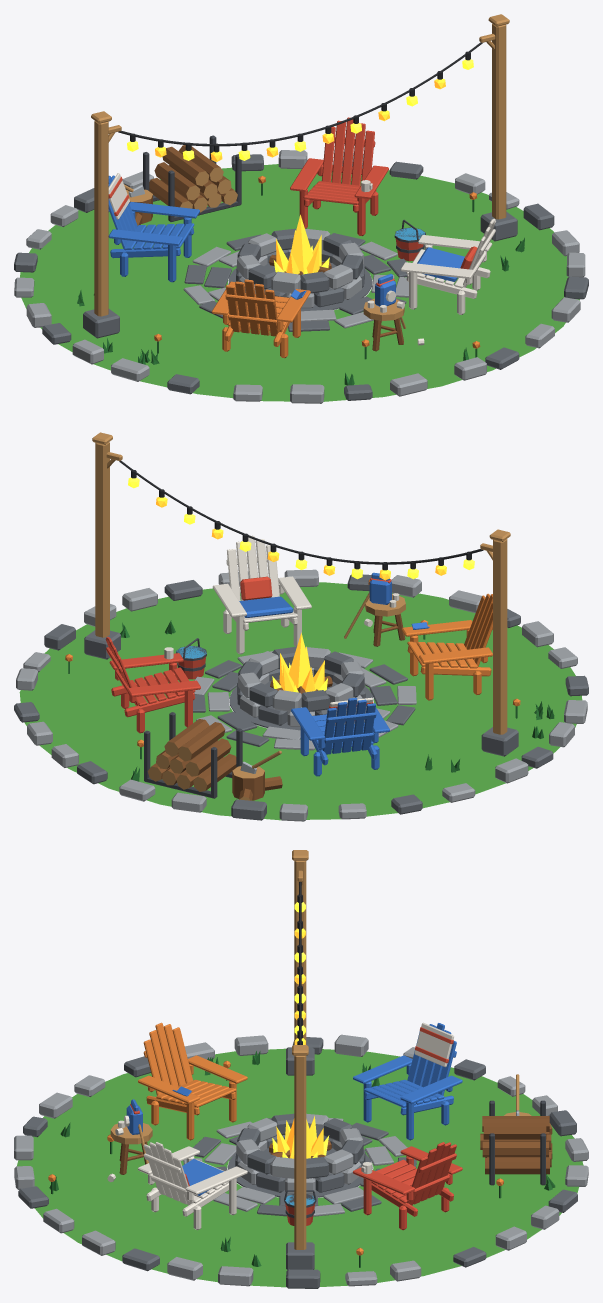
Rendered from backyard-fire-pit-set.glb.
3 views of the same model, one above another, from view 1: azimuth 30°, elevation 25°; view 2: azimuth 150°, elevation 25°; view 3: azimuth 270°, elevation 25° (orthographic).
Parts seen in each view (by area): view 1: Yard_Ground, Light_Posts, FirePit_Stones, Chair_Red_Body, Firewood_Logs, Chair_Blue_Body, Chair_Cream_Body, Chair_Orange_Body, Bulbs, Flames, Stool, Light_Wire (+2 smaller); view 2: Yard_Ground, Light_Posts, FirePit_Stones, Firewood_Logs, Chair_Cream_Body, Chair_Orange_Body, Chair_Blue_Body, Chair_Red_Body, Bulbs, Flames, Stool, Light_Wire (+2 smaller); view 3: Yard_Ground, FirePit_Stones, Chair_Blue_Body, Chair_Orange_Body, Light_Posts, Chair_Red_Body, Chair_Cream_Body, Firewood_Logs, Flames, Stool, Bulbs, Bucket.
Boxes of the visible parts, <box> form: Yard_Ground: <box>14,150,588,403</box>; Light_Posts: <box>83,14,517,338</box>; FirePit_Stones: <box>228,228,372,311</box>; Chair_Red_Body: <box>290,117,388,236</box>; Firewood_Logs: <box>126,135,241,225</box>; Chair_Blue_Body: <box>108,173,199,282</box>; Chair_Cream_Body: <box>400,218,495,314</box>; Chair_Orange_Body: <box>211,279,310,358</box>; Bulbs: <box>127,51,473,161</box>; Flames: <box>274,214,329,274</box>; Stool: <box>363,298,424,351</box>; Light_Wire: <box>118,42,482,146</box>; Yard_Ground: <box>14,569,588,821</box>; Light_Posts: <box>84,432,518,756</box>; FirePit_Stones: <box>229,646,373,730</box>; Firewood_Logs: <box>144,712,282,800</box>; Chair_Cream_Body: <box>212,535,311,654</box>; Chair_Orange_Body: <box>401,593,492,700</box>; Chair_Blue_Body: <box>291,697,389,776</box>; Chair_Red_Body: <box>105,637,200,733</box>; Bulbs: <box>128,470,474,580</box>; Flames: <box>272,632,327,692</box>; Stool: <box>364,593,405,646</box>; Light_Wire: <box>119,460,483,564</box>; Yard_Ground: <box>14,1034,588,1288</box>; FirePit_Stones: <box>227,1113,372,1197</box>; Chair_Blue_Body: <box>353,1022,462,1140</box>; Chair_Orange_Body: <box>138,1022,247,1140</box>; Light_Posts: <box>286,850,314,1269</box>; Chair_Red_Body: <box>353,1142,462,1230</box>; Chair_Cream_Body: <box>138,1142,247,1230</box>; Firewood_Logs: <box>480,1100,552,1185</box>; Flames: <box>272,1116,329,1158</box>; Stool: <box>107,1120,152,1182</box>; Bulbs: <box>294,894,305,1044</box>; Bucket: <box>284,1190,316,1225</box>.
Size of the model in its own units: 26.08 by 10.82 by 25.92.
